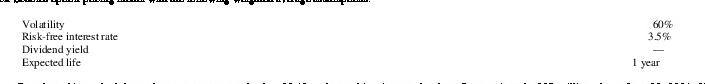table: (0, 0, 705, 84)
